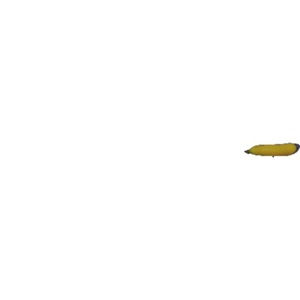banana: (244, 137, 297, 164)
